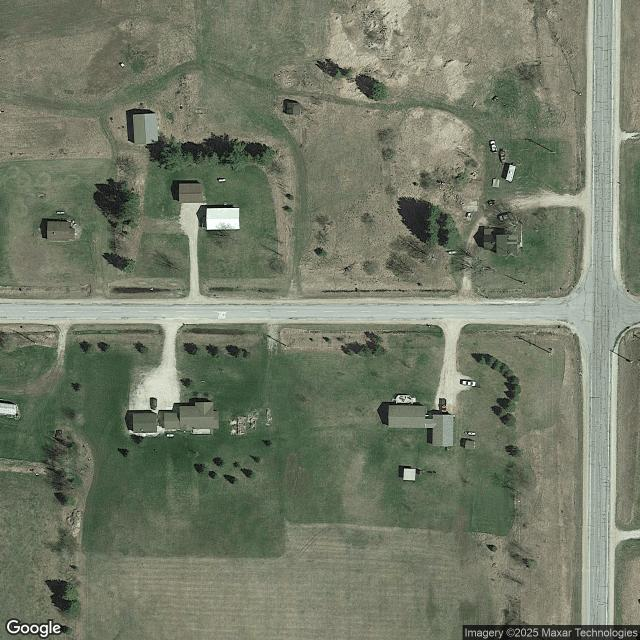Propane: (468, 432, 476, 436), (166, 434, 174, 437), (448, 251, 456, 254), (218, 179, 226, 182), (57, 212, 65, 214)
